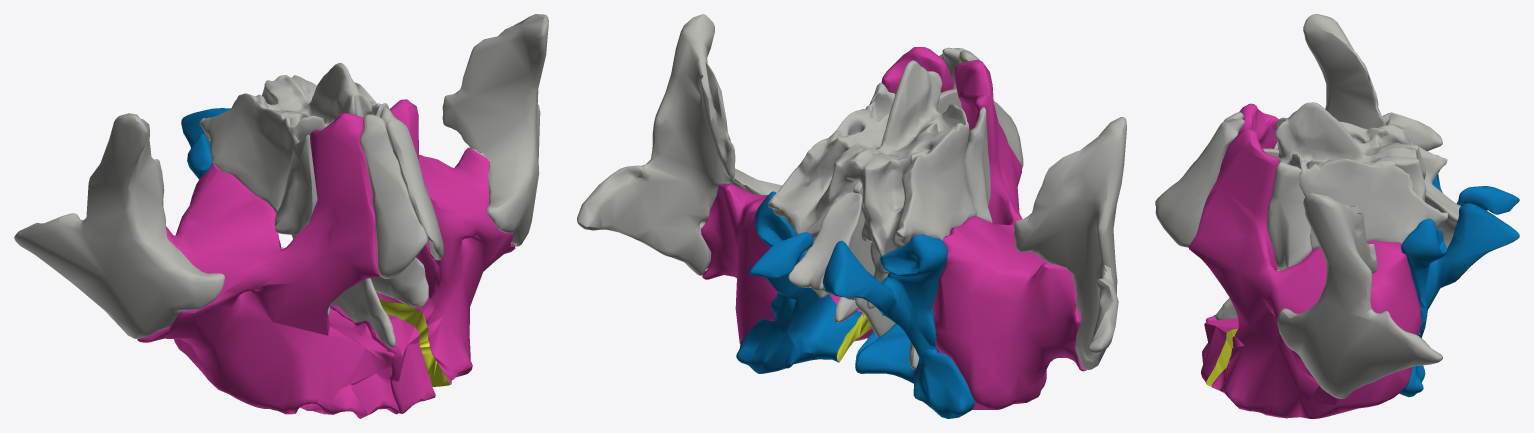
The model's file is cleft-palate-trial-3.glb.
The picture shows the model from 3 angles, left to right: view 1: azimuth 30°, elevation 25°; view 2: azimuth 150°, elevation 25°; view 3: azimuth 270°, elevation 25°; orthographic projection. The views are drawn at different scales.
Parts seen in each view (by area): view 1: FJ6486_BP49199_FMA9710_Vomer.obj.063, FJ6486_BP49199_FMA9710_Vomer.obj.002, FJ6486_BP49199_FMA9710_Vomer.obj.258, FJ6486_BP49199_FMA9710_Vomer.obj.160, FJ6486_BP49199_FMA9710_Vomer.obj.284, FJ6486_BP49199_FMA9710_Vomer.obj.062, FJ6486_BP49199_FMA9710_Vomer.obj.232, FJ6486_BP49199_FMA9710_Vomer.obj.226, FJ6486_BP49199_FMA9710_Vomer.obj.102, FJ6486_BP49199_FMA9710_Vomer.obj.001, FJ6486_BP49199_FMA9710_Vomer.obj.281, FJ6486_BP49199_FMA9710_Vomer.obj.394; view 2: FJ6486_BP49199_FMA9710_Vomer.obj.063, FJ6486_BP49199_FMA9710_Vomer.obj.284, FJ6486_BP49199_FMA9710_Vomer.obj.160, FJ6486_BP49199_FMA9710_Vomer.obj.002, FJ6486_BP49199_FMA9710_Vomer.obj.394, FJ6486_BP49199_FMA9710_Vomer.obj.218, FJ6486_BP49199_FMA9710_Vomer.obj.258, FJ6486_BP49199_FMA9710_Vomer.obj.001, FJ6486_BP49199_FMA9710_Vomer.obj.102, FJ6486_BP49199_FMA9710_Vomer.obj.062, FJ6486_BP49199_FMA9710_Vomer.obj.142; view 3: FJ6486_BP49199_FMA9710_Vomer.obj.258, FJ6486_BP49199_FMA9710_Vomer.obj.160, FJ6486_BP49199_FMA9710_Vomer.obj.284, FJ6486_BP49199_FMA9710_Vomer.obj.218, FJ6486_BP49199_FMA9710_Vomer.obj.002, FJ6486_BP49199_FMA9710_Vomer.obj.226, FJ6486_BP49199_FMA9710_Vomer.obj.277, FJ6486_BP49199_FMA9710_Vomer.obj.232, FJ6486_BP49199_FMA9710_Vomer.obj.001, FJ6486_BP49199_FMA9710_Vomer.obj.394, FJ6486_BP49199_FMA9710_Vomer.obj.063.
Boxes of the visible parts, x1,y1,x2,y2 form: FJ6486_BP49199_FMA9710_Vomer.obj.063: (137,113,399,418); FJ6486_BP49199_FMA9710_Vomer.obj.002: (14,113,224,338); FJ6486_BP49199_FMA9710_Vomer.obj.258: (376,99,515,386); FJ6486_BP49199_FMA9710_Vomer.obj.160: (442,14,548,246); FJ6486_BP49199_FMA9710_Vomer.obj.284: (199,63,389,212); FJ6486_BP49199_FMA9710_Vomer.obj.062: (360,114,427,278); FJ6486_BP49199_FMA9710_Vomer.obj.232: (330,304,435,413); FJ6486_BP49199_FMA9710_Vomer.obj.226: (380,107,443,260); FJ6486_BP49199_FMA9710_Vomer.obj.102: (275,135,317,235); FJ6486_BP49199_FMA9710_Vomer.obj.001: (291,234,395,347); FJ6486_BP49199_FMA9710_Vomer.obj.281: (370,257,428,306); FJ6486_BP49199_FMA9710_Vomer.obj.394: (181,108,331,307); FJ6486_BP49199_FMA9710_Vomer.obj.063: (932,59,1086,409); FJ6486_BP49199_FMA9710_Vomer.obj.284: (767,60,976,308); FJ6486_BP49199_FMA9710_Vomer.obj.160: (577,14,782,275); FJ6486_BP49199_FMA9710_Vomer.obj.002: (1014,117,1126,369); FJ6486_BP49199_FMA9710_Vomer.obj.394: (822,234,974,418); FJ6486_BP49199_FMA9710_Vomer.obj.218: (736,191,863,373); FJ6486_BP49199_FMA9710_Vomer.obj.258: (701,47,953,344); FJ6486_BP49199_FMA9710_Vomer.obj.001: (788,192,895,337); FJ6486_BP49199_FMA9710_Vomer.obj.102: (965,107,992,222); FJ6486_BP49199_FMA9710_Vomer.obj.062: (959,50,1023,167); FJ6486_BP49199_FMA9710_Vomer.obj.142: (853,89,967,197); FJ6486_BP49199_FMA9710_Vomer.obj.258: (1188,128,1421,418); FJ6486_BP49199_FMA9710_Vomer.obj.160: (1277,193,1442,398); FJ6486_BP49199_FMA9710_Vomer.obj.284: (1274,102,1447,250); FJ6486_BP49199_FMA9710_Vomer.obj.218: (1399,203,1519,397); FJ6486_BP49199_FMA9710_Vomer.obj.002: (1303,14,1442,151); FJ6486_BP49199_FMA9710_Vomer.obj.226: (1155,118,1244,247); FJ6486_BP49199_FMA9710_Vomer.obj.277: (1267,162,1311,268); FJ6486_BP49199_FMA9710_Vomer.obj.232: (1201,317,1238,386); FJ6486_BP49199_FMA9710_Vomer.obj.001: (1215,179,1495,320); FJ6486_BP49199_FMA9710_Vomer.obj.394: (1432,173,1519,214); FJ6486_BP49199_FMA9710_Vomer.obj.063: (1202,103,1278,363).
Bounding box in the file's own units: 0.2777 × 0.1595 × 0.1902.
